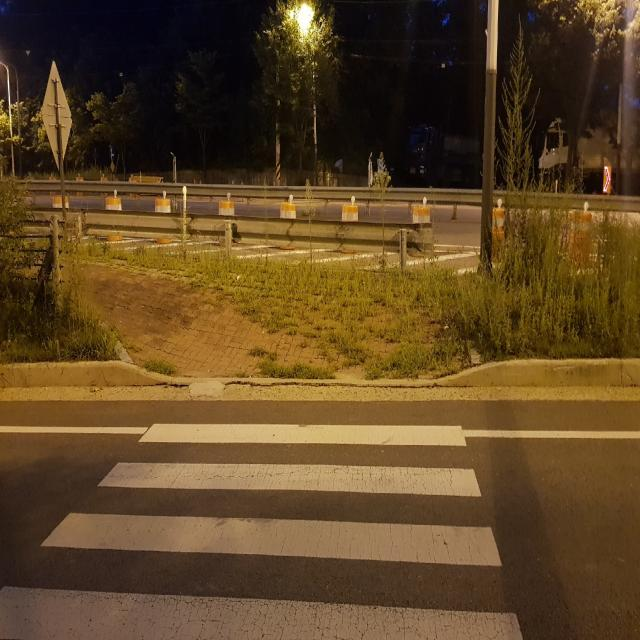횡단보도: (0, 423, 522, 639)
